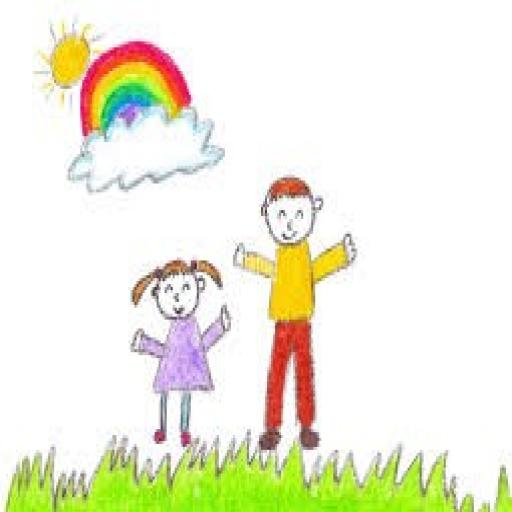person: (232, 167, 359, 457), (126, 238, 232, 460)
